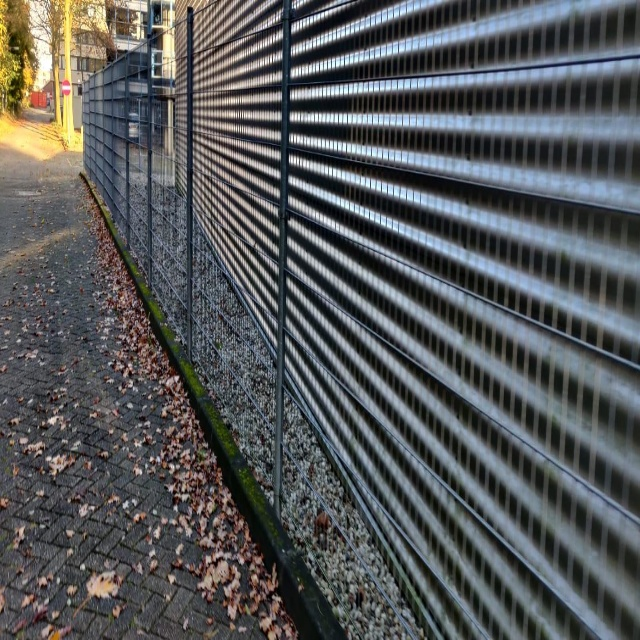obstacle: (11, 30, 522, 638)
